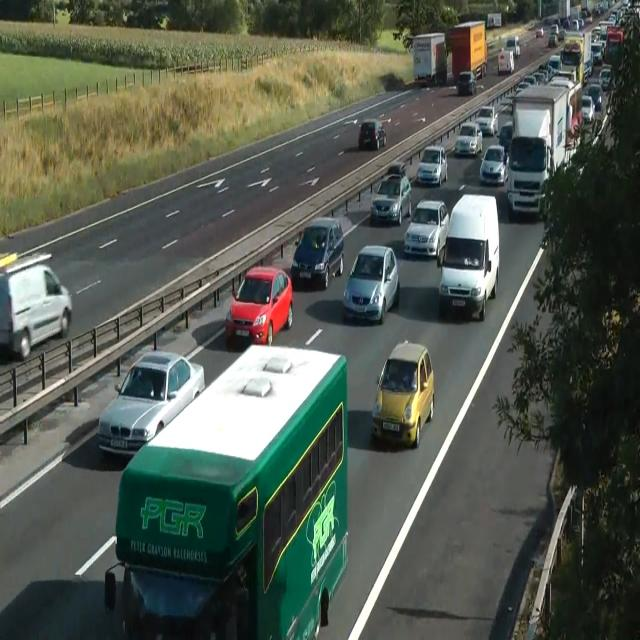bus: (97, 349, 205, 459), (371, 339, 435, 449), (225, 266, 293, 346), (342, 243, 400, 324), (403, 198, 449, 260), (416, 145, 448, 187), (479, 144, 509, 186), (454, 121, 482, 156), (358, 119, 386, 150), (475, 106, 498, 136), (456, 70, 476, 96), (498, 121, 513, 152), (586, 83, 602, 111), (598, 64, 614, 91), (580, 95, 594, 124), (387, 162, 406, 177), (536, 27, 544, 37)
car: (104, 342, 348, 638)
jeep: (438, 193, 500, 321), (0, 259, 72, 360), (290, 216, 344, 289), (506, 134, 551, 220), (370, 171, 412, 225)
minibus: (507, 76, 582, 220), (446, 20, 488, 84), (412, 32, 447, 85), (560, 31, 593, 86), (500, 34, 520, 59), (497, 49, 515, 75), (486, 12, 502, 28)
